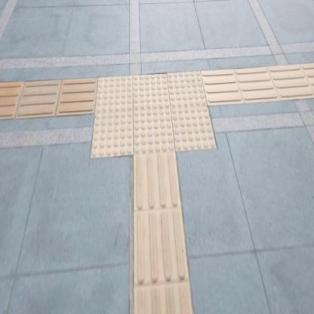Podoctatil: (72, 59, 228, 173), (132, 156, 196, 314), (208, 62, 314, 106), (0, 77, 97, 118)
